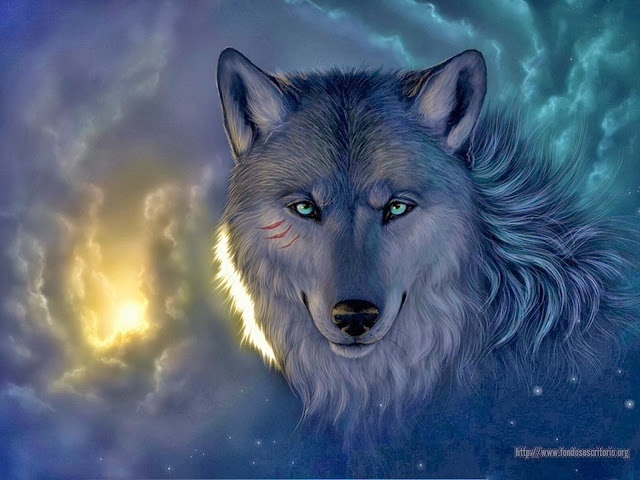Lobo: (186, 29, 569, 419)
